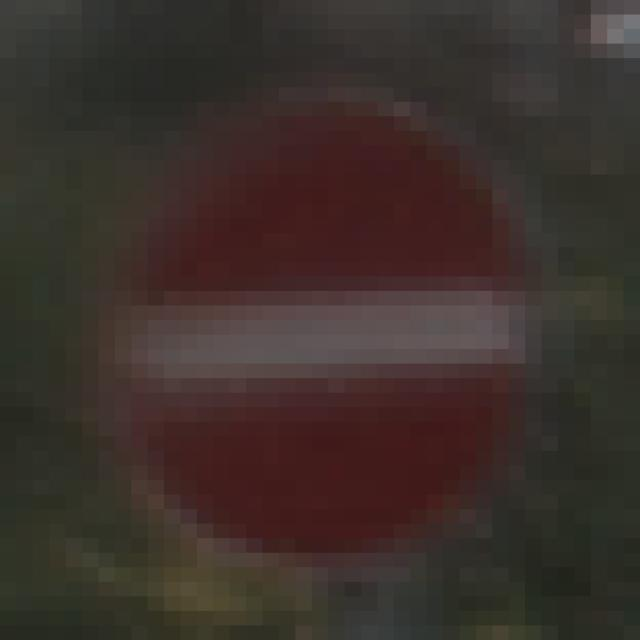No Entry: (99, 74, 559, 568)
